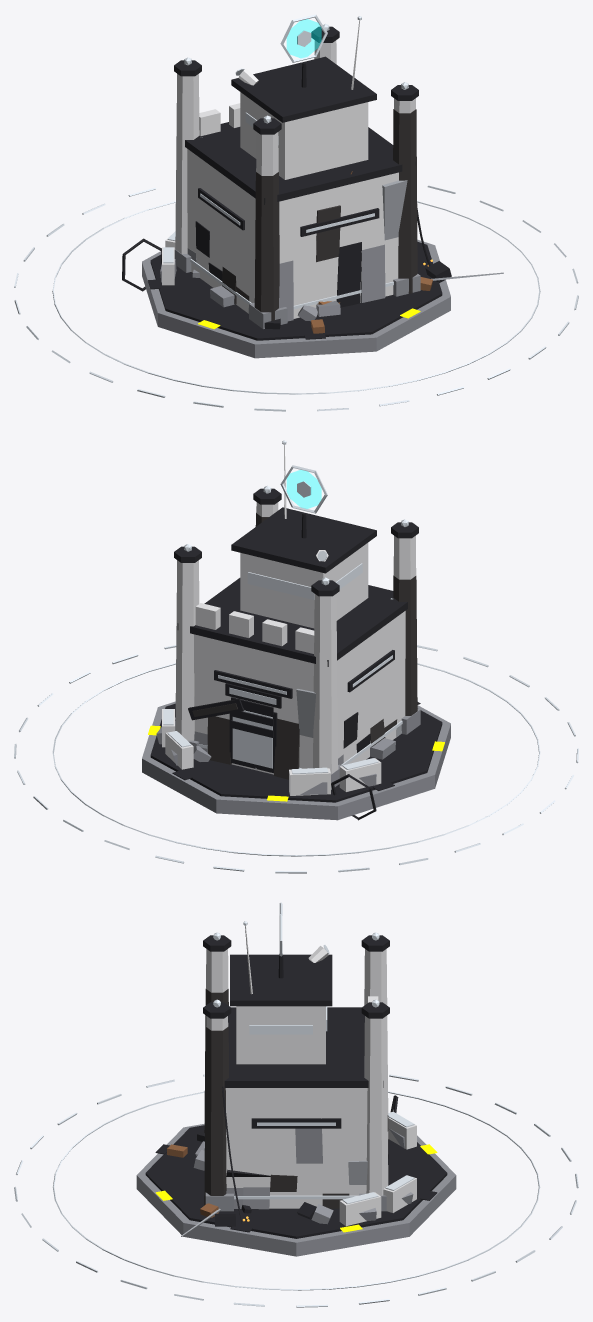
The model's file is DerelictOutpost.fbx.
The picture shows the model from 3 angles, top to bottom: view 1: azimuth 30°, elevation 25°; view 2: azimuth 150°, elevation 25°; view 3: azimuth 270°, elevation 25°; orthographic projection.
Visible parts, largest first — view 1: OutR_Wall2, Out_PadTop, OutR_Wall3, Out_Pad, OutR_Cabin, OutR_Floor2, OutR_CabinRoof, OutX_Pillar3, OutX_Pillar1, OutR_Pillar2, Out_CaptureProgress, Out_CaptureRing (+10 smaller); view 2: Out_Pad, Out_PadTop, OutR_Wall3, OutR_Wall0, OutR_CabinRoof, OutR_Cabin, OutR_Floor2, OutR_Pillar2, OutR_Pillar0, OutX_Pillar3, Out_CaptureProgress, OutR_DoorGlow (+15 smaller); view 3: OutR_Wall1, Out_PadTop, Out_Pad, OutR_Floor2, OutR_CabinRoof, OutR_Cabin, OutR_Pillar0, OutX_Pillar1, Out_CaptureProgress, Out_CaptureRing, OutR_Pillar2, OutX_WallE_2 (+7 smaller).
Part boxes in pixels (box(x1,y1,x2,y2)): OutR_Wall2: box(279, 172, 398, 318); Out_PadTop: box(150, 241, 442, 340); OutR_Wall3: box(187, 149, 255, 313); Out_Pad: box(142, 239, 450, 358); OutR_Cabin: box(240, 92, 368, 179); OutR_Floor2: box(185, 122, 415, 204); OutR_CabinRoof: box(231, 56, 376, 122); OutX_Pillar3: box(254, 172, 279, 320); OutX_Pillar1: box(393, 109, 417, 293); OutR_Pillar2: box(175, 74, 199, 253); Out_CaptureProgress: box(52, 201, 540, 394); Out_CaptureRing: box(14, 185, 578, 411); Out_Pad: box(142, 701, 450, 820); Out_PadTop: box(150, 703, 442, 802); OutR_Wall3: box(337, 611, 405, 763); OutR_Wall0: box(194, 634, 313, 774); OutR_CabinRoof: box(231, 507, 376, 573); OutR_Cabin: box(240, 542, 368, 628); OutR_Floor2: box(177, 578, 407, 666); OutR_Pillar2: box(313, 594, 338, 773); OutR_Pillar0: box(175, 560, 199, 740); OutX_Pillar3: box(393, 575, 417, 715); Out_CaptureProgress: box(52, 663, 540, 856); OutR_DoorGlow: box(232, 710, 272, 768); OutR_Wall1: box(225, 1088, 367, 1208); Out_PadTop: box(145, 1125, 447, 1238); Out_Pad: box(136, 1123, 456, 1256); OutR_Floor2: box(224, 1007, 383, 1087); OutR_CabinRoof: box(230, 954, 332, 1006); OutR_Cabin: box(236, 1006, 325, 1064); OutR_Pillar0: box(364, 1016, 388, 1195); OutX_Pillar1: box(204, 1026, 228, 1205); Out_CaptureProgress: box(52, 1091, 540, 1290); Out_CaptureRing: box(14, 1074, 578, 1307); OutR_Pillar2: box(364, 949, 388, 1138); OutX_WallE_2: box(295, 1118, 322, 1163).
Size of the model in its own units: 4.42 by 2.52 by 4.42.
